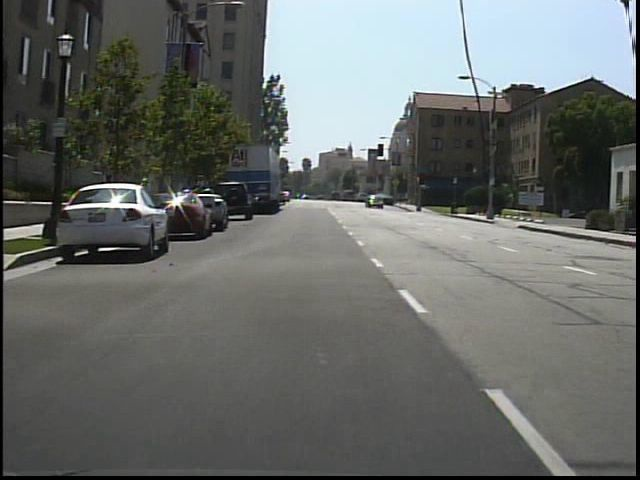person: (100, 168, 122, 220), (137, 172, 156, 220)
